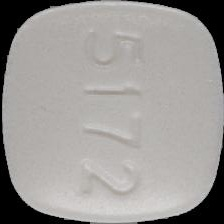33261-993: (0, 0, 224, 224)
